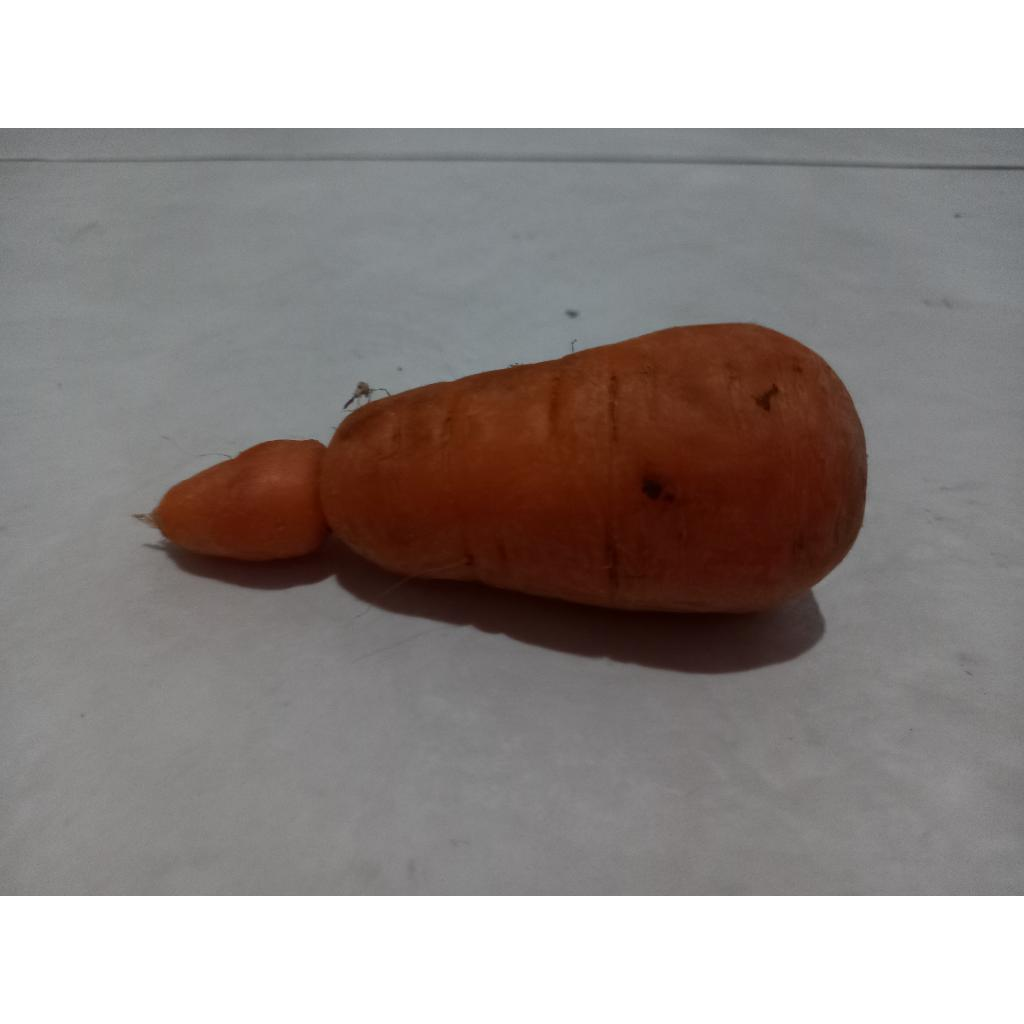carrot: (152, 324, 866, 612)
